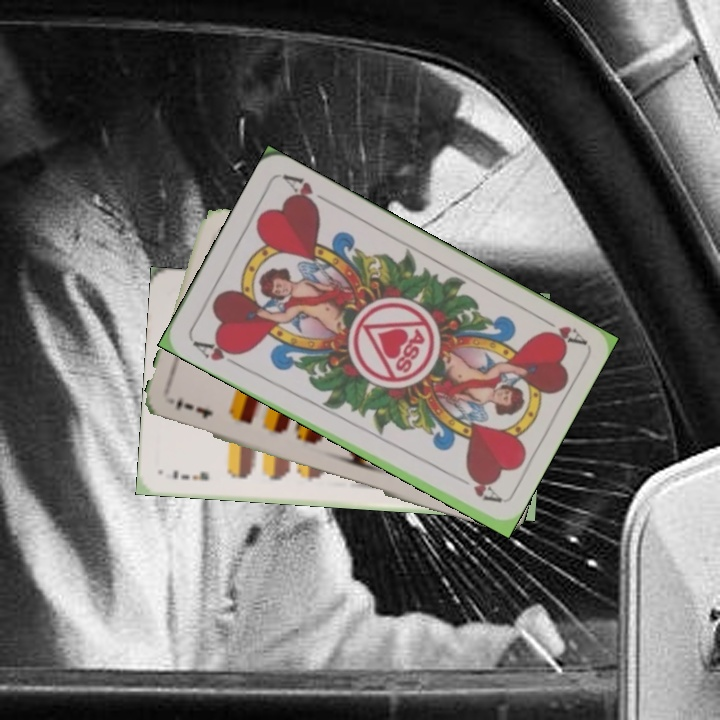E7: (172, 396, 215, 422), (168, 465, 211, 484)
HA: (533, 310, 588, 348), (188, 336, 243, 369)
